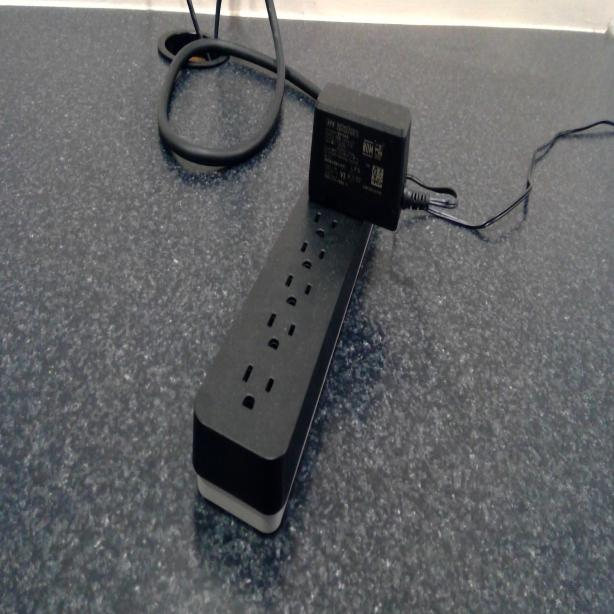typeb: (234, 361, 280, 420), (261, 306, 301, 350), (278, 272, 316, 313), (310, 205, 341, 243), (296, 242, 328, 276)
